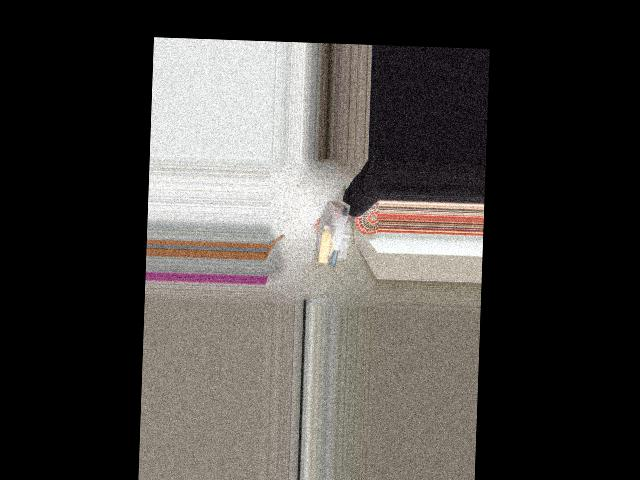cheese: (314, 197, 352, 267)
